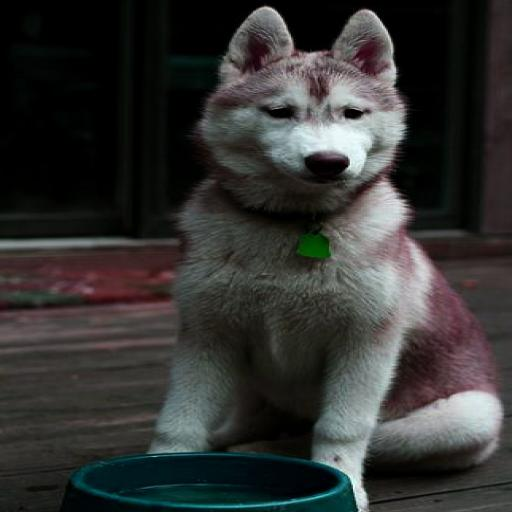dog_face: (214, 17, 385, 171)
